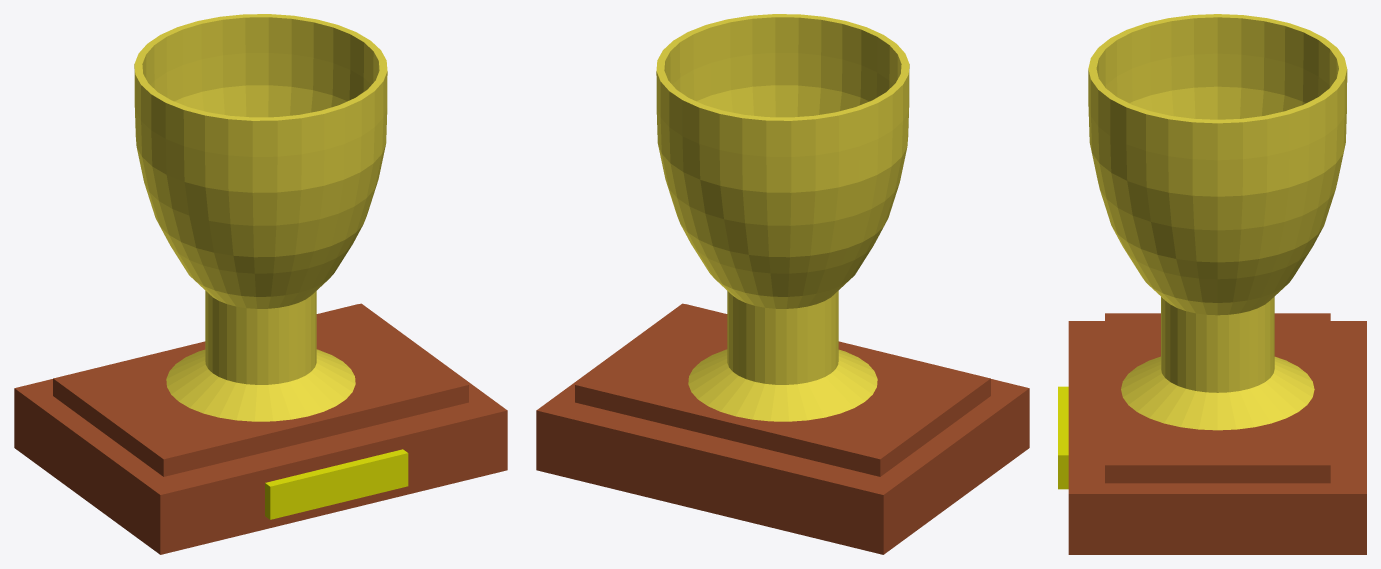
Rendered from Trophy_1.fbx.
The picture shows the model from 3 angles, left to right: view 1: azimuth 30°, elevation 25°; view 2: azimuth 150°, elevation 25°; view 3: azimuth 270°, elevation 25°; orthographic projection. The views are drawn at different scales.
Parts seen in each view (by area): view 1: Cube; view 2: Cube; view 3: Cube.
Part boxes in pixels (x1,y1,x2,y2): Cube: (14, 14, 507, 554); Cube: (536, 14, 1029, 554); Cube: (1058, 14, 1366, 554).
Bounding box in the file's own units: 503 × 543 × 380.
